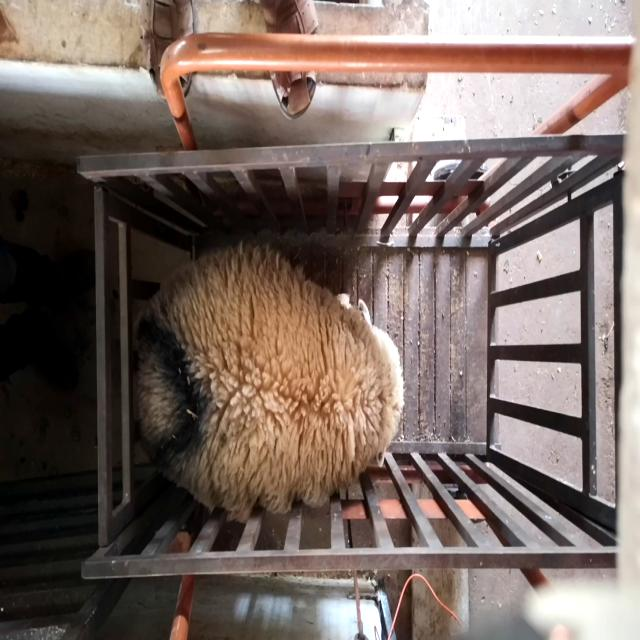sheep: (135, 248, 406, 522)
